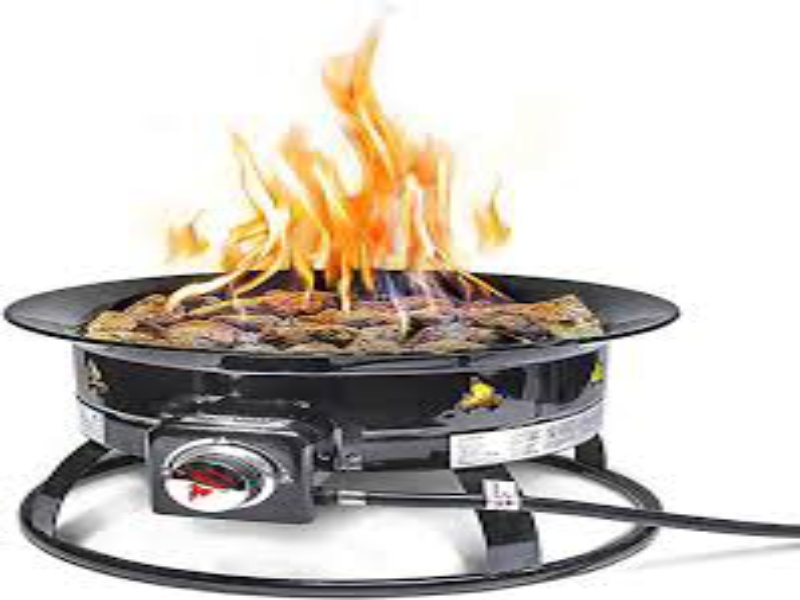fire: (212, 121, 456, 289), (335, 39, 378, 120), (471, 185, 511, 247), (164, 214, 211, 262)
